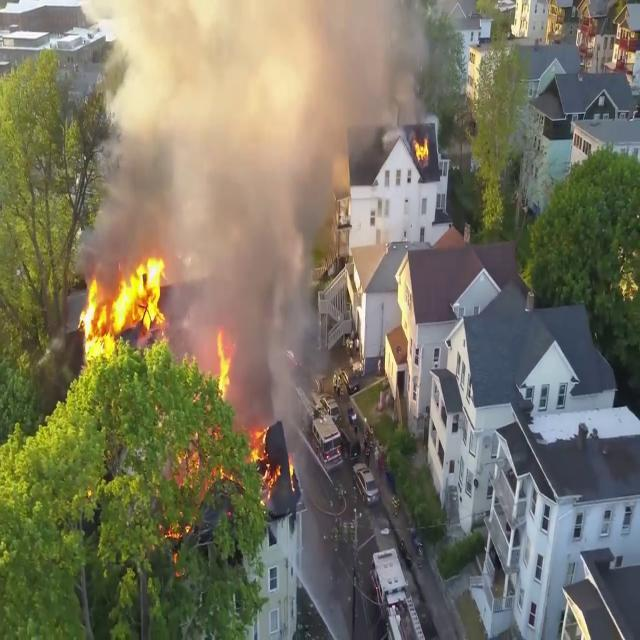Fire: (78, 248, 174, 356), (247, 418, 281, 500), (214, 323, 234, 407), (411, 132, 431, 166)
Smoke: (75, 0, 352, 415)
